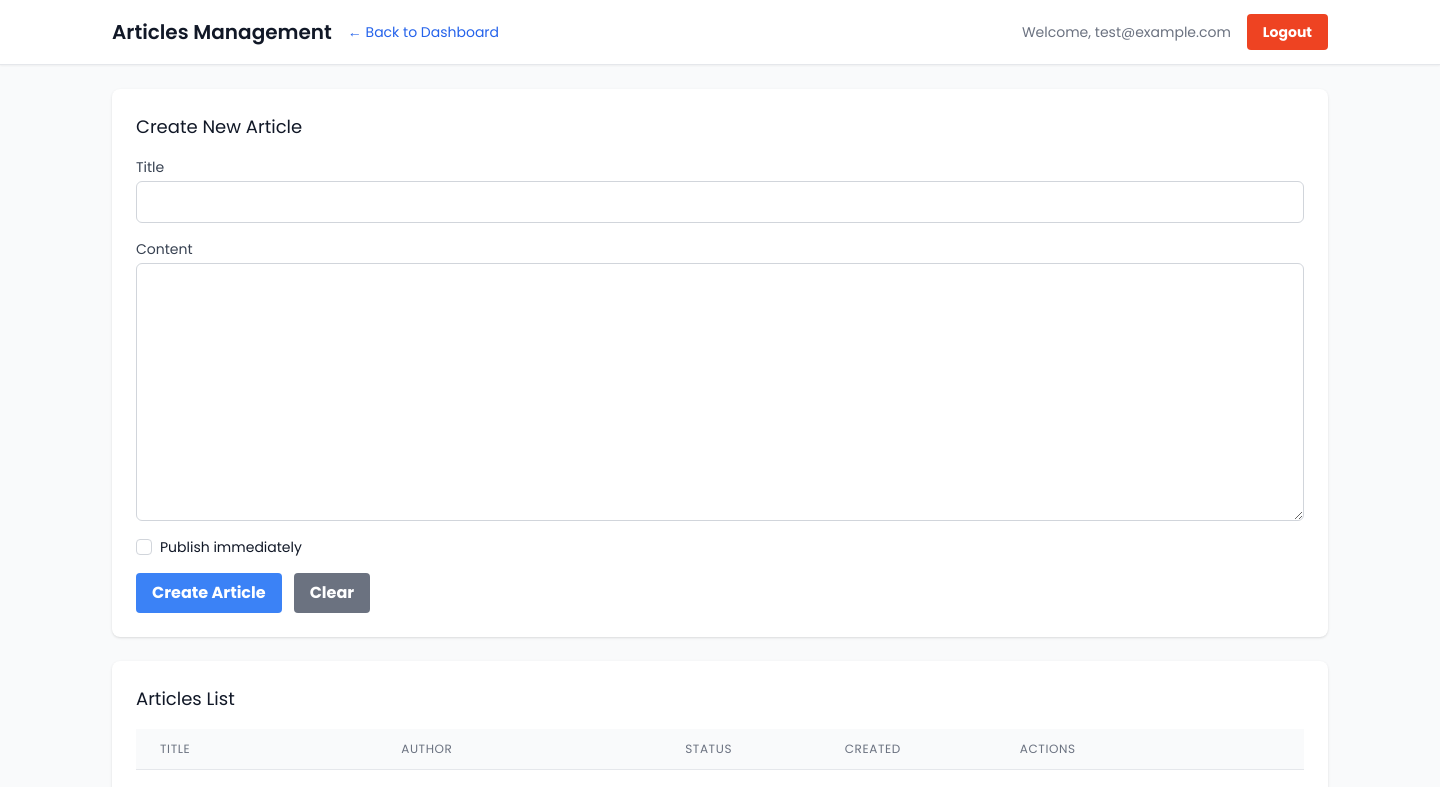
Test: Admin Articles Page › clears form when clear button is clicked
Step 1. Type "Some title" into the field labelled "Title" → {"x": 720, "y": 202}, box [136,181,1304,223]
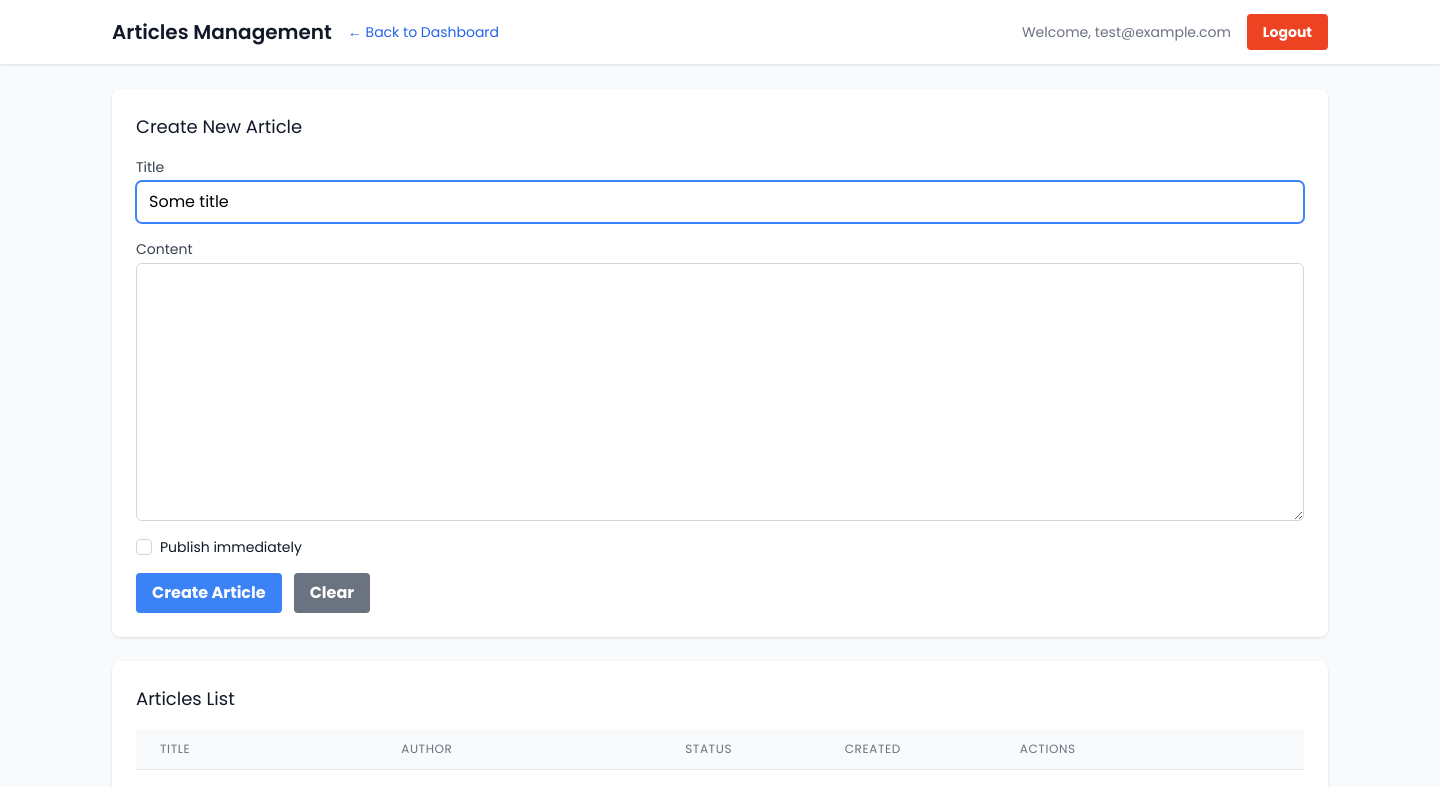
Step 2. Type "Some content" into the text box labelled "Content" → {"x": 720, "y": 392}, box [136,263,1304,521]
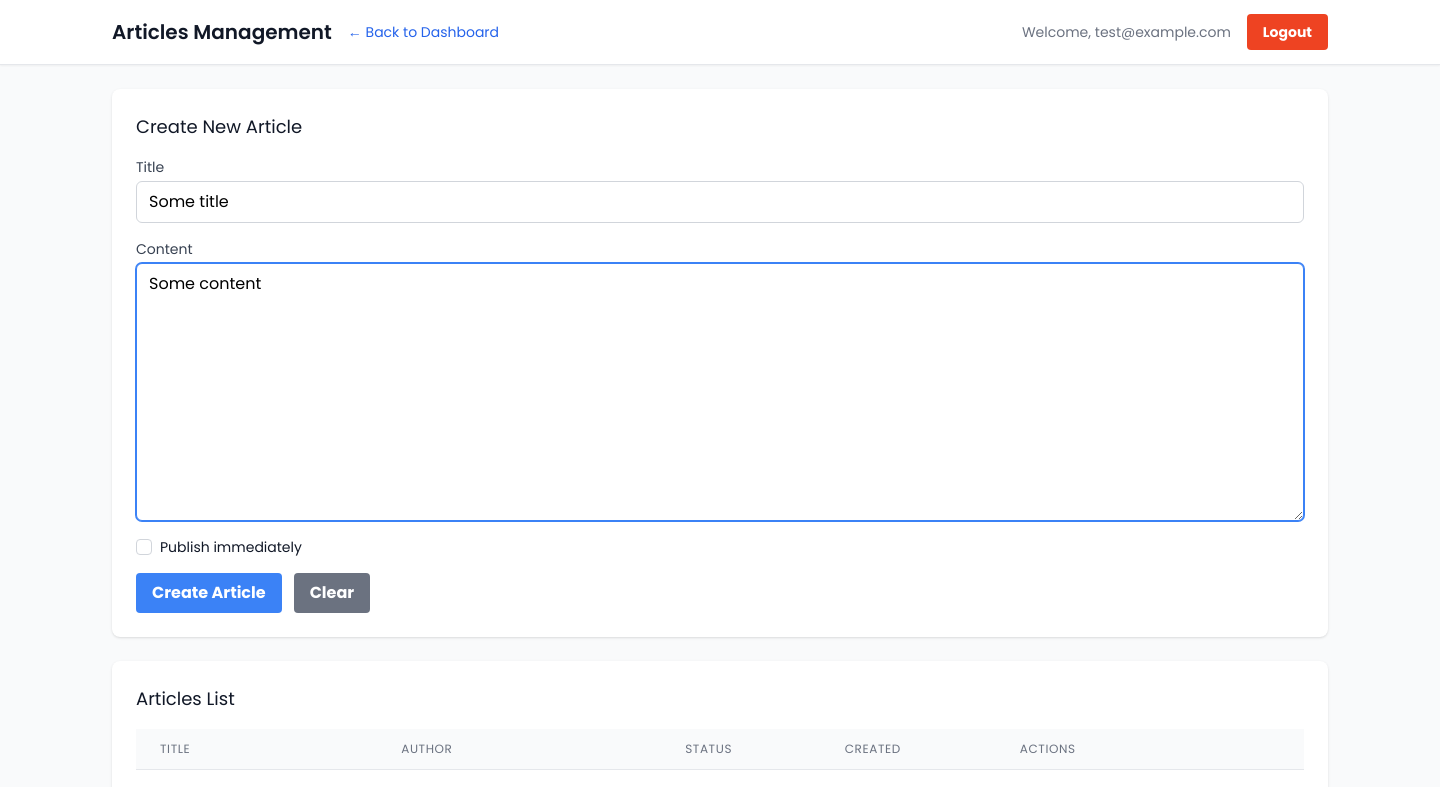
Step 3. Click the button "Clear" → {"x": 332, "y": 593}, box [294,573,370,613]
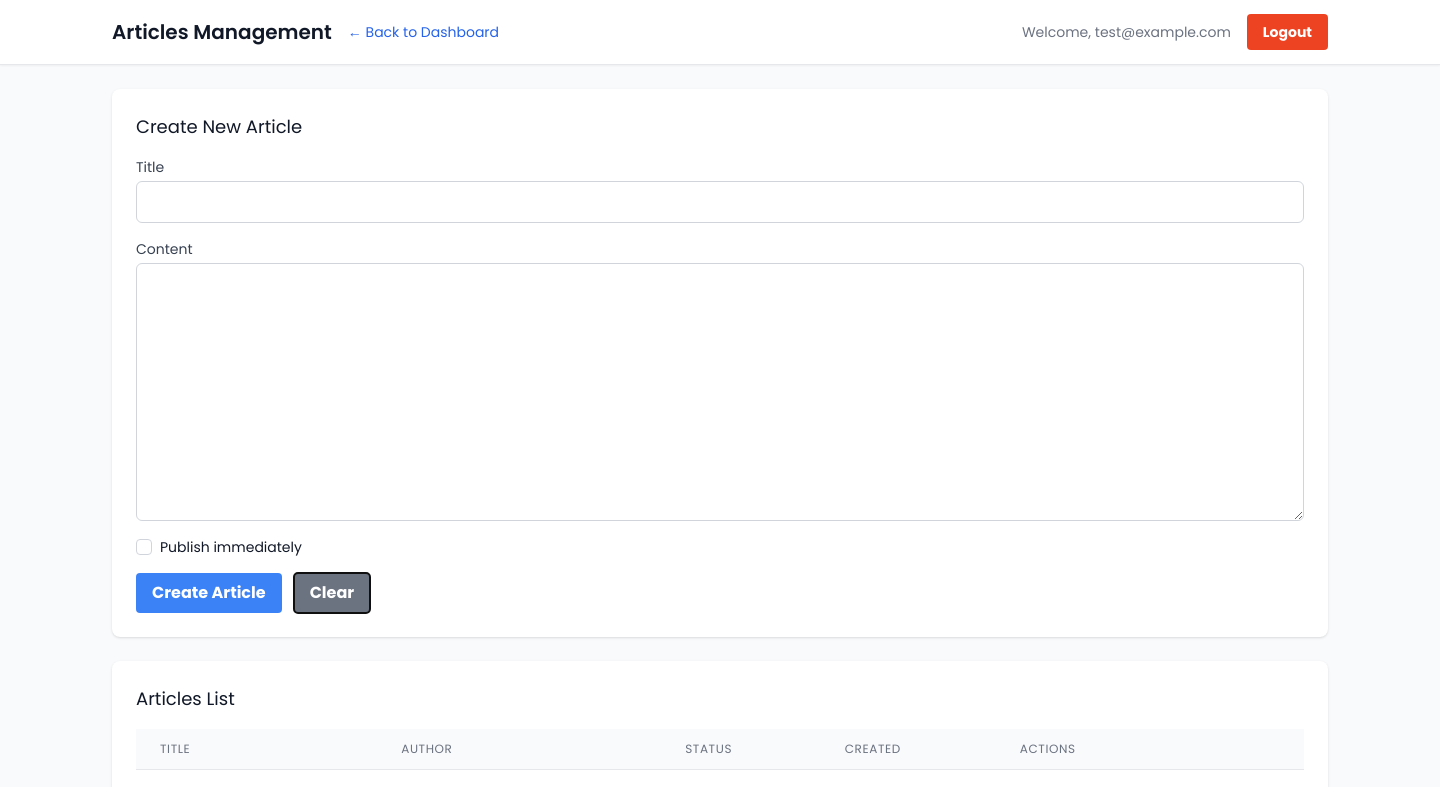
Expected: the field labelled "Title" is empty, [136,181,1304,223]
Expected: the text box labelled "Content" is empty, [136,263,1304,521]
